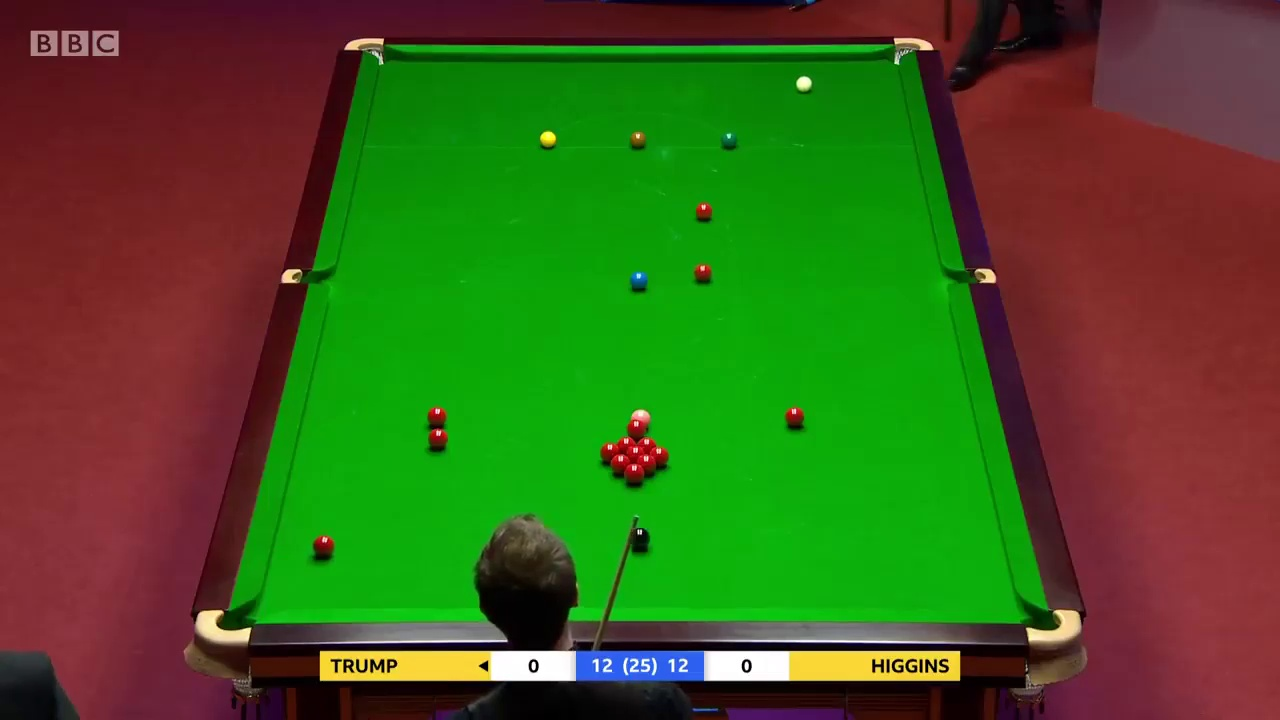ball: (424, 424, 448, 450), (311, 533, 336, 557), (793, 73, 812, 95), (691, 199, 713, 218), (537, 129, 558, 148), (786, 405, 803, 426), (627, 131, 646, 149), (629, 271, 647, 288), (693, 262, 709, 279), (718, 130, 734, 146)
